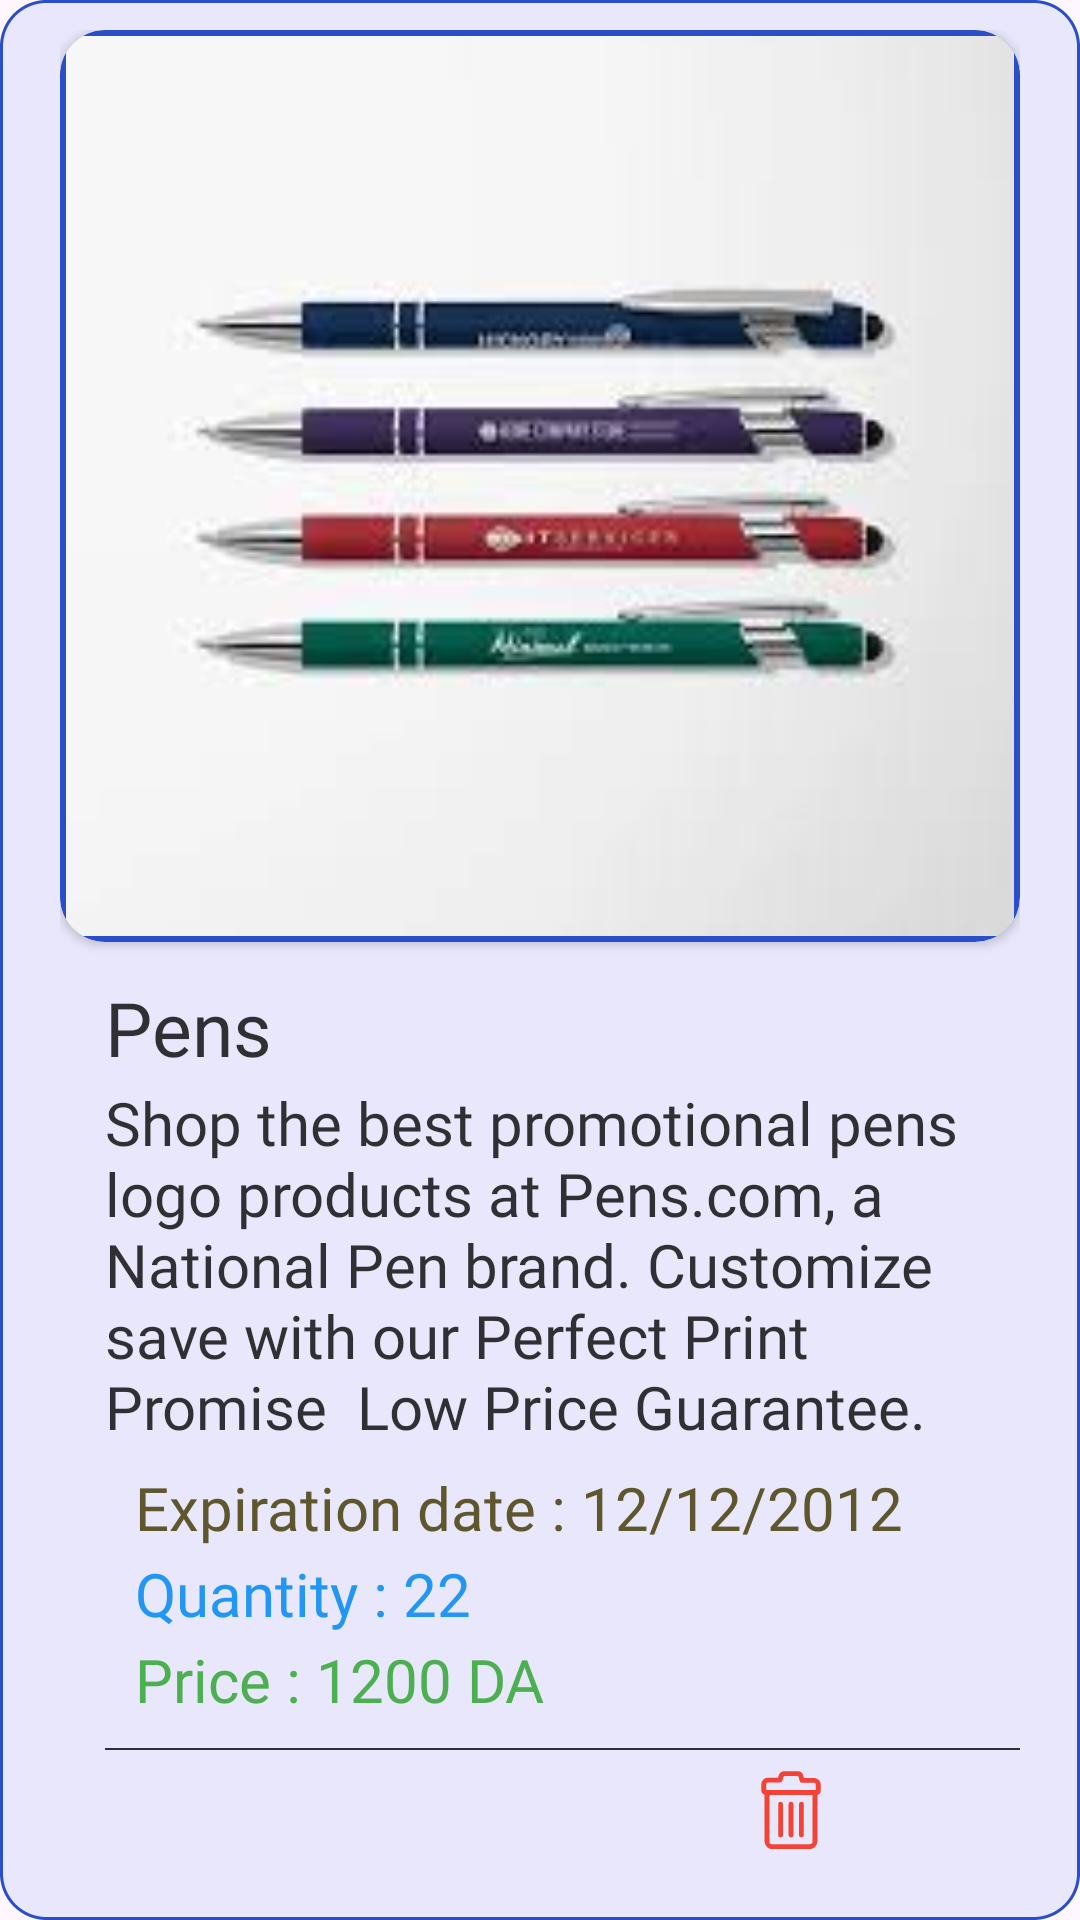

Where to tap for icons on this 1080w x 1920h app screen, as (x,y):
delete: (791,1810)
